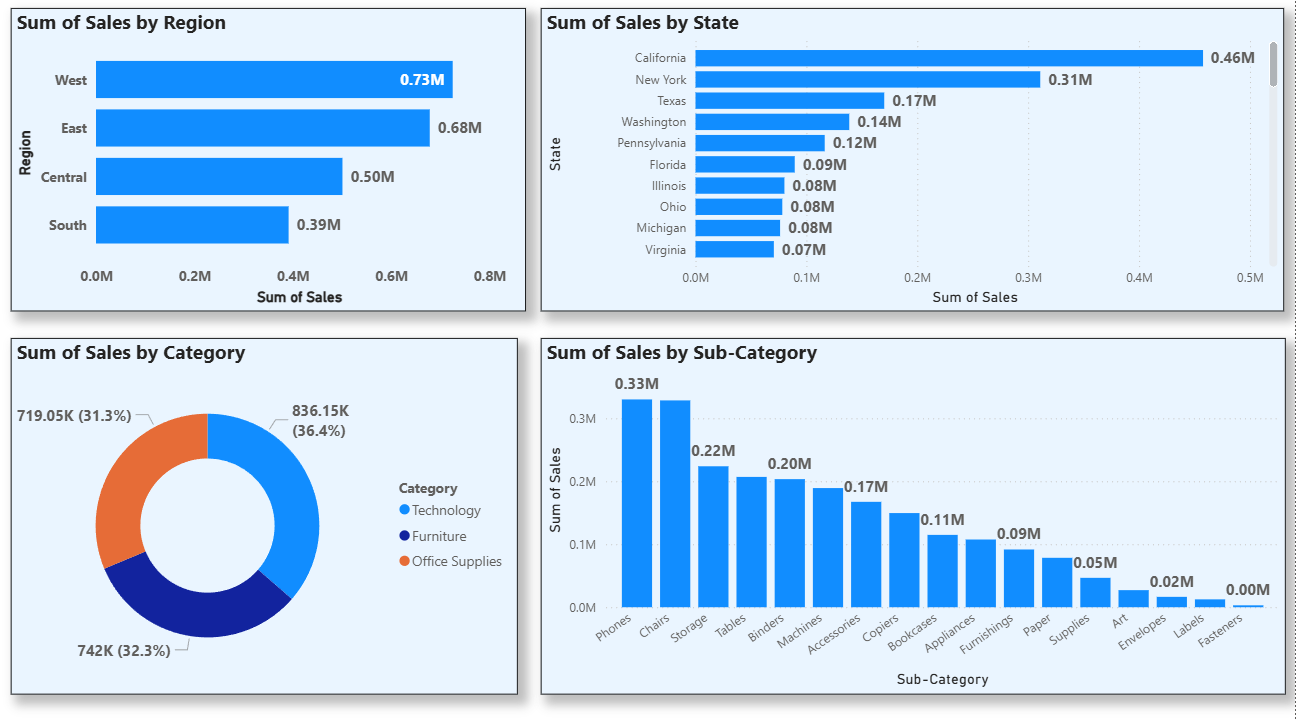

Layout of this report page (visuals, bound fields, positions):
{"tool":"powerbi","page":{"name":"Page 3","canvas":[1280,720],"ordinal":2},"visuals":[{"type":"clusteredBarChart","fields":{"Category":["Superstore.Region"],"Y":["Sum(Superstore.Sales)"]},"box":[22.9,20,504.3,297.1],"z":0},{"type":"donutChart","fields":{"Category":["Superstore.Category"],"Y":["Sum(Superstore.Sales)"]},"box":[22.9,342.9,495.7,348.6],"z":1000},{"type":"columnChart","fields":{"Category":["Superstore.Sub-Category"],"Y":["Sum(Superstore.Sales)"]},"box":[541.4,342.9,728.6,348.6],"z":2000},{"type":"clusteredBarChart","fields":{"Category":["Superstore.State"],"Y":["Sum(Superstore.Sales)"]},"box":[541.4,20,727.1,297.1],"z":3000}]}

Visuals, with their boxes in screenshot pixels (x1, y1, x2, y2), scaled from the page's 1280x720 canvas onto the 1296x721 screenshot:
clusteredBarChart - Superstore.Region x Sum(Superstore.Sales): select_region(23, 20, 534, 318)
donutChart - Superstore.Category x Sum(Superstore.Sales): select_region(23, 343, 525, 692)
columnChart - Superstore.Sub-Category x Sum(Superstore.Sales): select_region(548, 343, 1286, 692)
clusteredBarChart - Superstore.State x Sum(Superstore.Sales): select_region(548, 20, 1284, 318)
